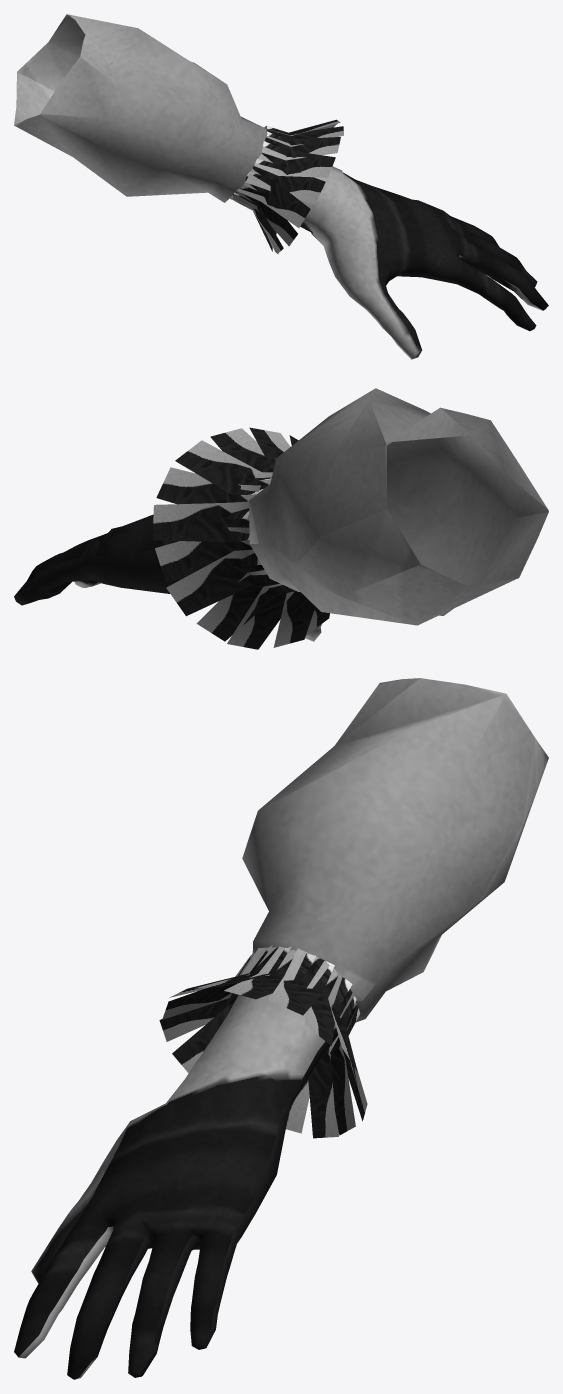
File: Rarm2.obj
3 renders of one model, top to bottom at view 1: azimuth 30°, elevation 25°; view 2: azimuth 150°, elevation 25°; view 3: azimuth 270°, elevation 25°, orthographic. The views are drawn at different scales.
Visible parts, largest first — view 1: Nier2b:Cube polySurface57 polySurface46 polySurface5, Nier2b:Cube polySurface46 polySurface5 polySurface58, Nier2b:Cube polySurface15, Nier2b:Cube polySurface18, Nier2b:Cube polySurface21, Nier2b:Cube polySurface25, Nier2b:Cube polySurface20, Nier2b:Cube polySurface19, Nier2b:Cube polySurface16; view 2: Nier2b:Cube polySurface57 polySurface46 polySurface5, Nier2b:Cube polySurface46 polySurface5 polySurface58, Nier2b:Cube polySurface24, Nier2b:Cube polySurface26, Nier2b:Cube polySurface27, Nier2b:Cube polySurface17, Nier2b:Cube polySurface13, Nier2b:Cube polySurface14, Nier2b:Cube polySurface23, polySurface12 Nier2b:Cube, Nier2b:Cube polySurface19, Nier2b:Cube polySurface25; view 3: Nier2b:Cube polySurface57 polySurface46 polySurface5, Nier2b:Cube polySurface46 polySurface5 polySurface58, Nier2b:Cube polySurface27, Nier2b:Cube polySurface23, Nier2b:Cube polySurface14, Nier2b:Cube polySurface19, Nier2b:Cube polySurface13, Nier2b:Cube polySurface18, Nier2b:Cube polySurface20, Nier2b:Cube polySurface21, Nier2b:Cube polySurface24, Nier2b:Cube polySurface25.
Boxes of the visible parts, x1,y1,x2,y2 form: Nier2b:Cube polySurface57 polySurface46 polySurface5: [14, 14, 344, 232]; Nier2b:Cube polySurface46 polySurface5 polySurface58: [311, 172, 548, 359]; Nier2b:Cube polySurface15: [254, 141, 335, 177]; Nier2b:Cube polySurface18: [236, 171, 310, 227]; Nier2b:Cube polySurface21: [245, 158, 325, 204]; Nier2b:Cube polySurface25: [261, 132, 340, 160]; Nier2b:Cube polySurface20: [232, 185, 297, 246]; Nier2b:Cube polySurface19: [266, 126, 343, 146]; Nier2b:Cube polySurface16: [230, 192, 283, 253]; Nier2b:Cube polySurface57 polySurface46 polySurface5: [249, 388, 548, 625]; Nier2b:Cube polySurface46 polySurface5 polySurface58: [14, 514, 321, 641]; Nier2b:Cube polySurface24: [152, 501, 249, 542]; Nier2b:Cube polySurface26: [166, 549, 273, 616]; Nier2b:Cube polySurface27: [175, 440, 272, 495]; Nier2b:Cube polySurface17: [155, 527, 261, 582]; Nier2b:Cube polySurface13: [196, 570, 293, 641]; Nier2b:Cube polySurface14: [156, 467, 260, 519]; Nier2b:Cube polySurface23: [227, 583, 300, 649]; polySurface12 Nier2b:Cube: [273, 591, 315, 647]; Nier2b:Cube polySurface19: [210, 428, 275, 479]; Nier2b:Cube polySurface25: [249, 427, 290, 470]; Nier2b:Cube polySurface57 polySurface46 polySurface5: [198, 678, 548, 1105]; Nier2b:Cube polySurface46 polySurface5 polySurface58: [14, 1059, 292, 1379]; Nier2b:Cube polySurface27: [268, 948, 334, 1015]; Nier2b:Cube polySurface23: [308, 1035, 338, 1138]; Nier2b:Cube polySurface14: [304, 961, 352, 1045]; Nier2b:Cube polySurface19: [224, 946, 316, 999]; Nier2b:Cube polySurface13: [330, 1030, 355, 1135]; Nier2b:Cube polySurface18: [159, 981, 241, 1041]; Nier2b:Cube polySurface20: [172, 1003, 233, 1072]; Nier2b:Cube polySurface21: [162, 951, 253, 1019]; Nier2b:Cube polySurface24: [328, 973, 357, 1071]; Nier2b:Cube polySurface25: [194, 946, 291, 988].
Size of the model in its own units: 6.76 by 4.48 by 4.79.
Materials: 1 (1 with a texture image).
